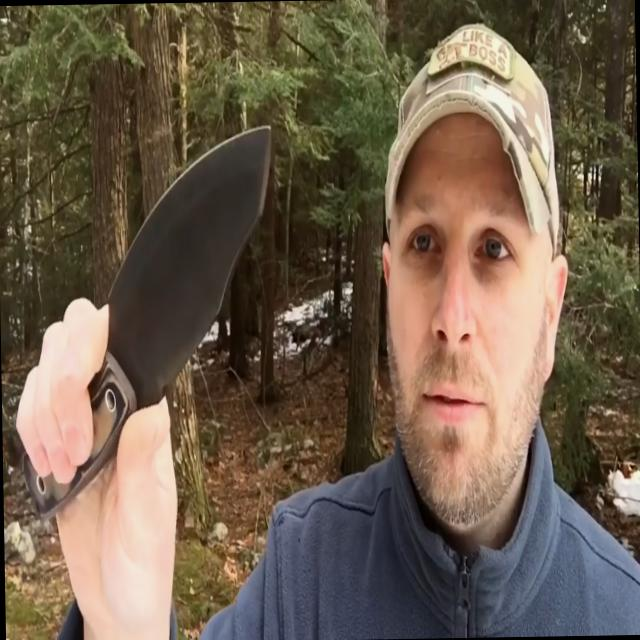knife: (42, 116, 286, 482)
